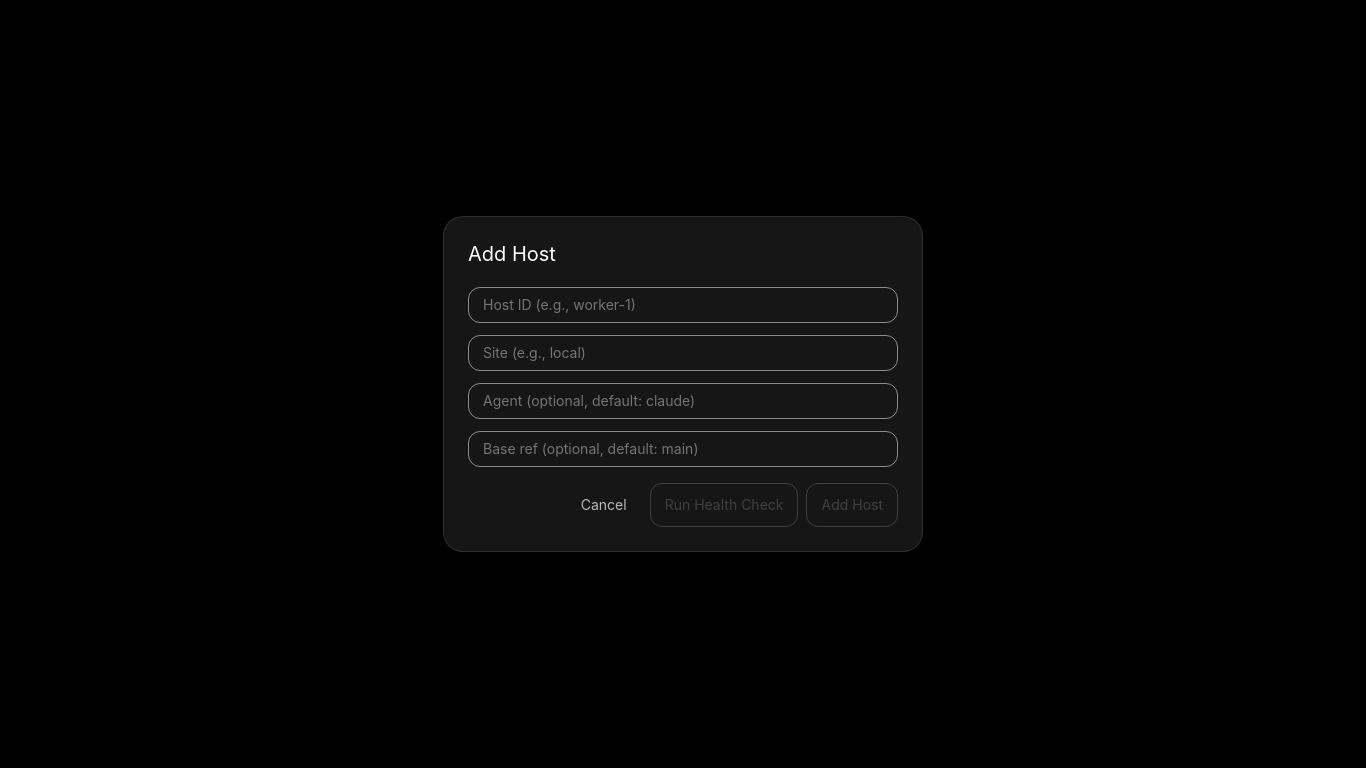
Scenario: AddHostModal › should render failing checks on 422 response from addCrew
Type "worker-1" into the field with placeholder "Host ID (e.g., worker-1)" at (683, 305), box [481,294,885,316]
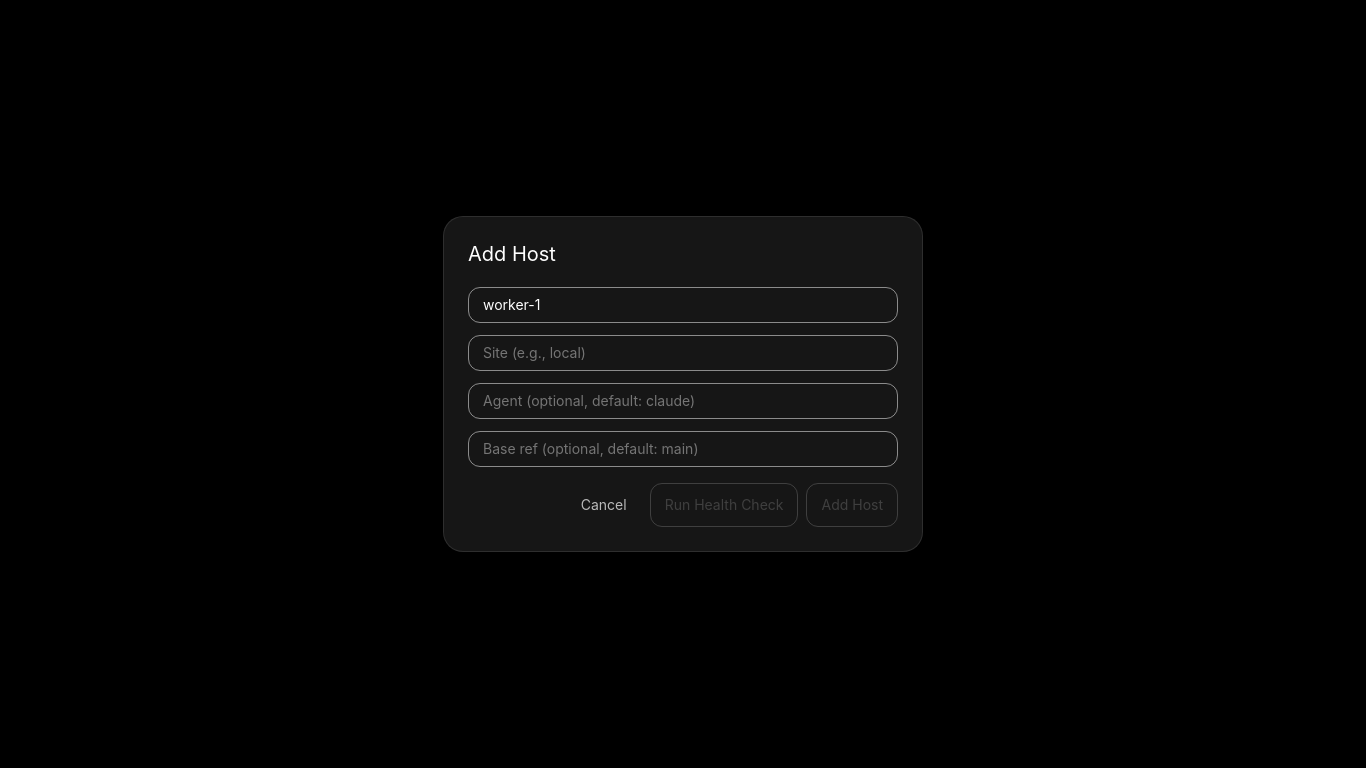
Type "local" into the field with placeholder "Site (e.g., local)" at (683, 353), box [481,342,885,364]
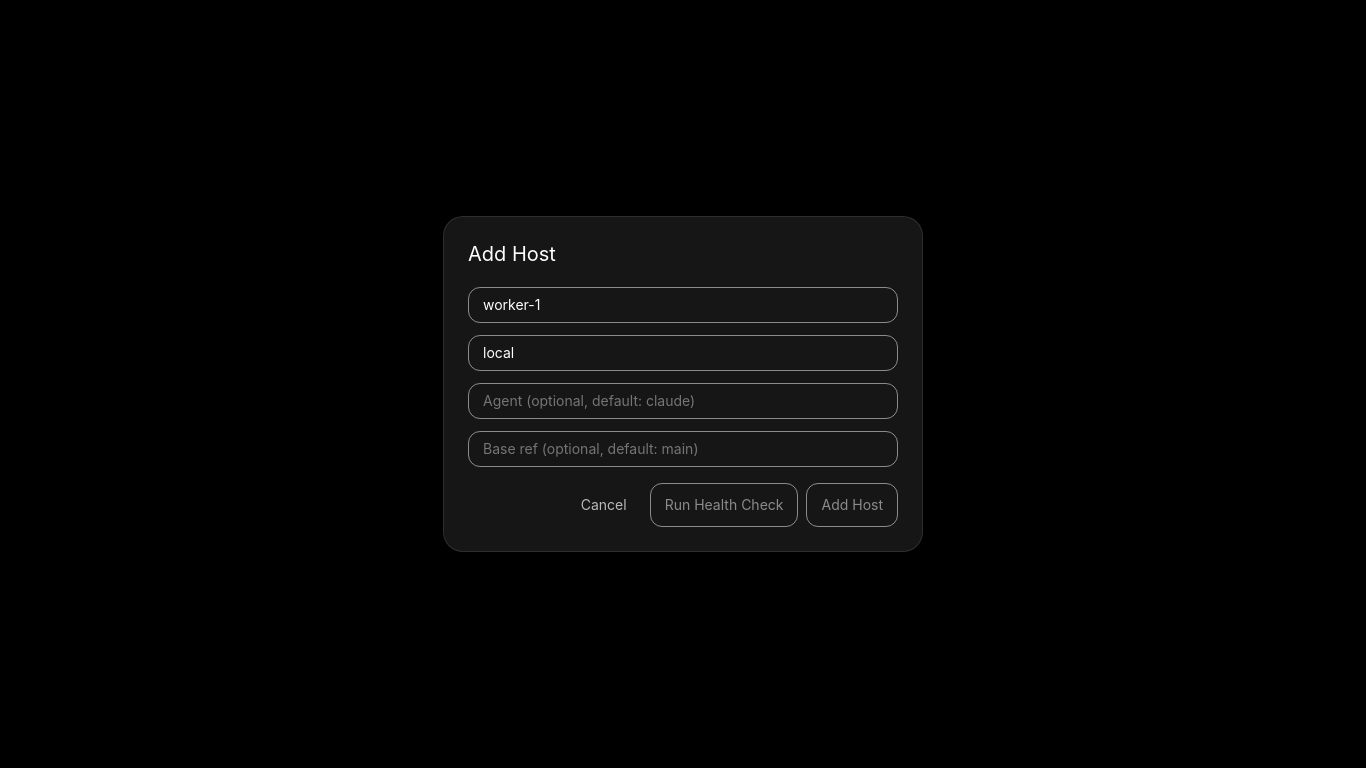
Click the button "Run Health Check" at (724, 505), box [650,483,798,527]
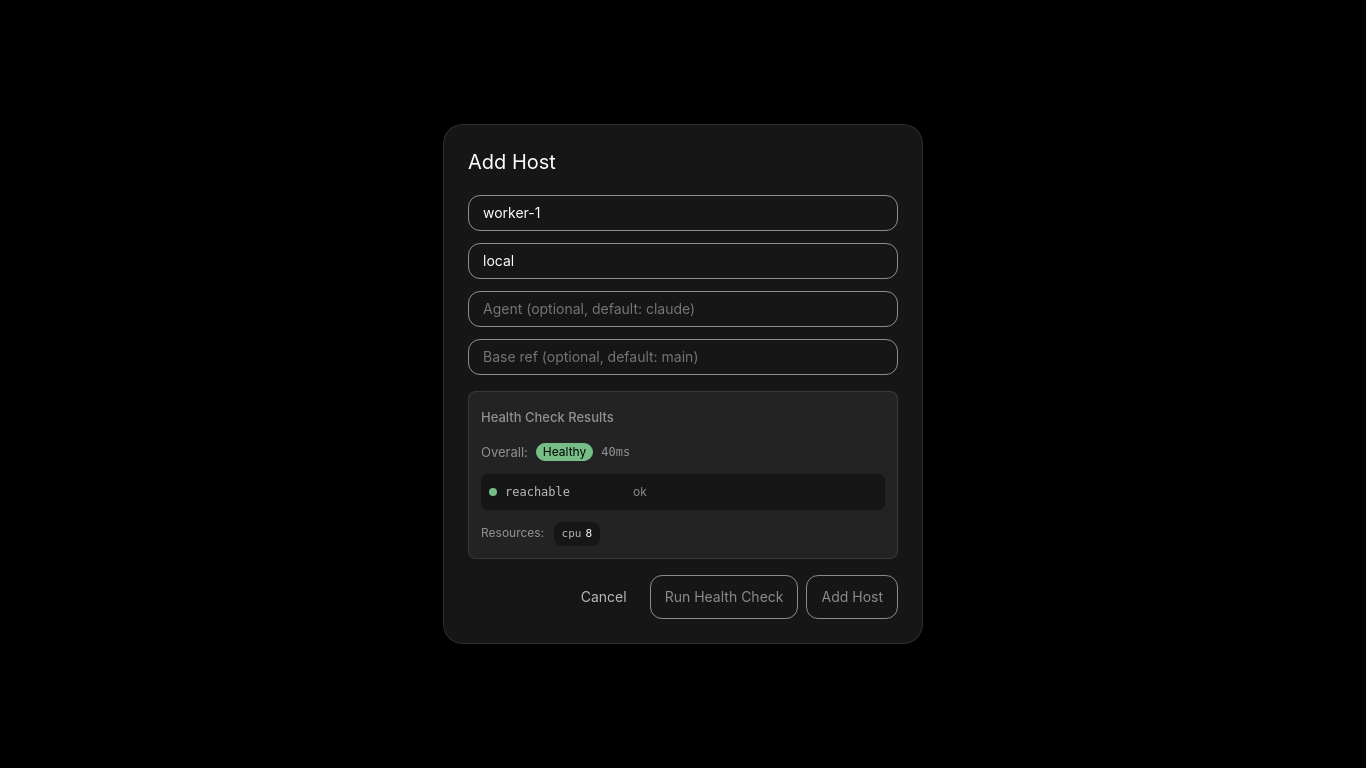
Expected: the text "reachable" is shown, [505,485,570,499]
Click the button "Add Host" at (852, 597), box [806,575,898,619]
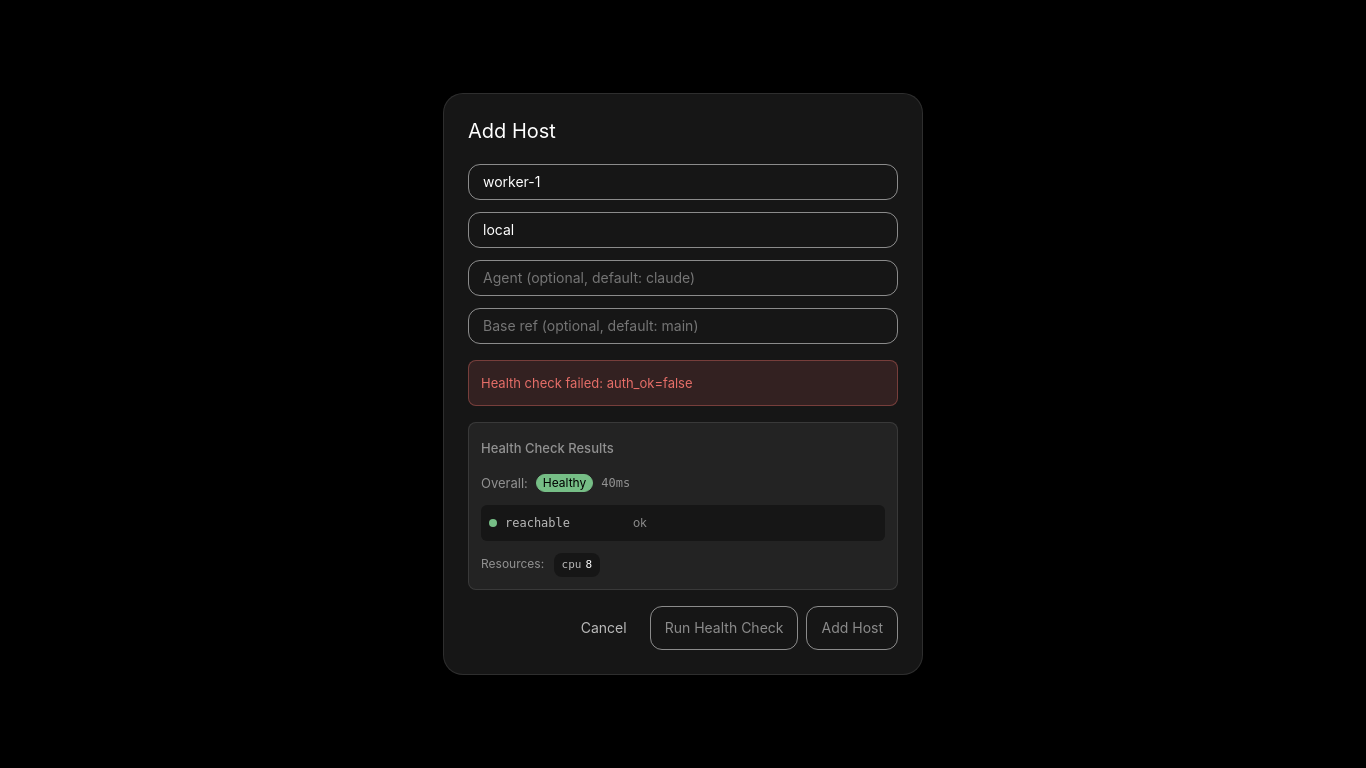
Expected: the text "Health check failed: auth_ok=false" is shown, [468,360,898,406]
